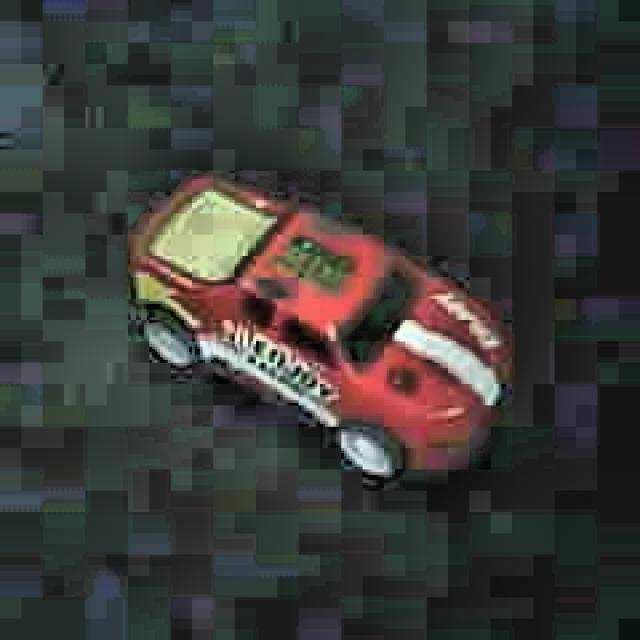car: (124, 170, 518, 489)
